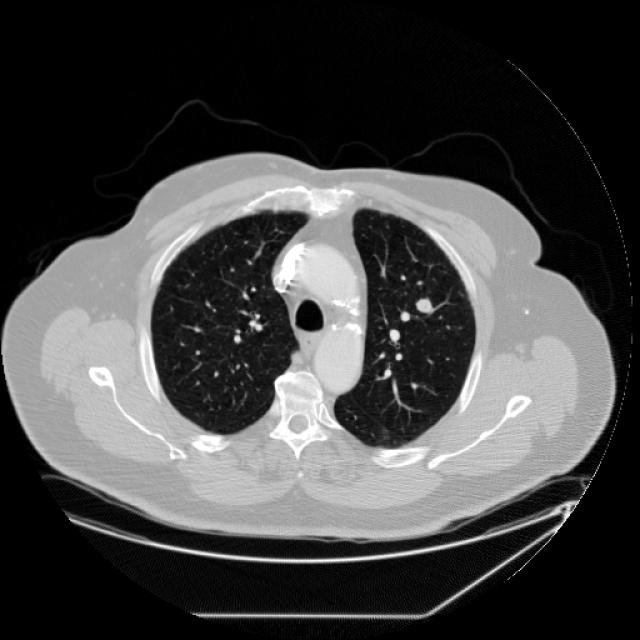nodule: (404, 285, 441, 323)
